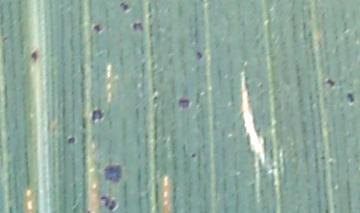tarspot: (103, 163, 122, 184), (99, 194, 116, 211), (91, 108, 105, 123), (177, 97, 190, 109), (131, 21, 144, 32), (345, 91, 355, 105), (29, 50, 39, 62), (118, 1, 130, 11), (324, 77, 335, 87), (66, 135, 77, 145), (92, 23, 102, 32), (196, 50, 203, 61), (190, 153, 196, 158)
